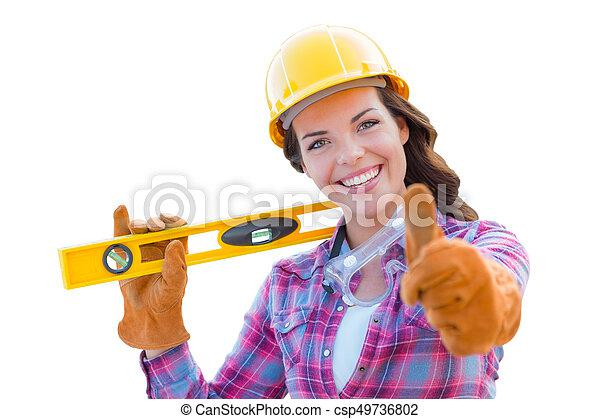hardhat: (263, 22, 416, 149)
worker: (112, 20, 528, 401)
